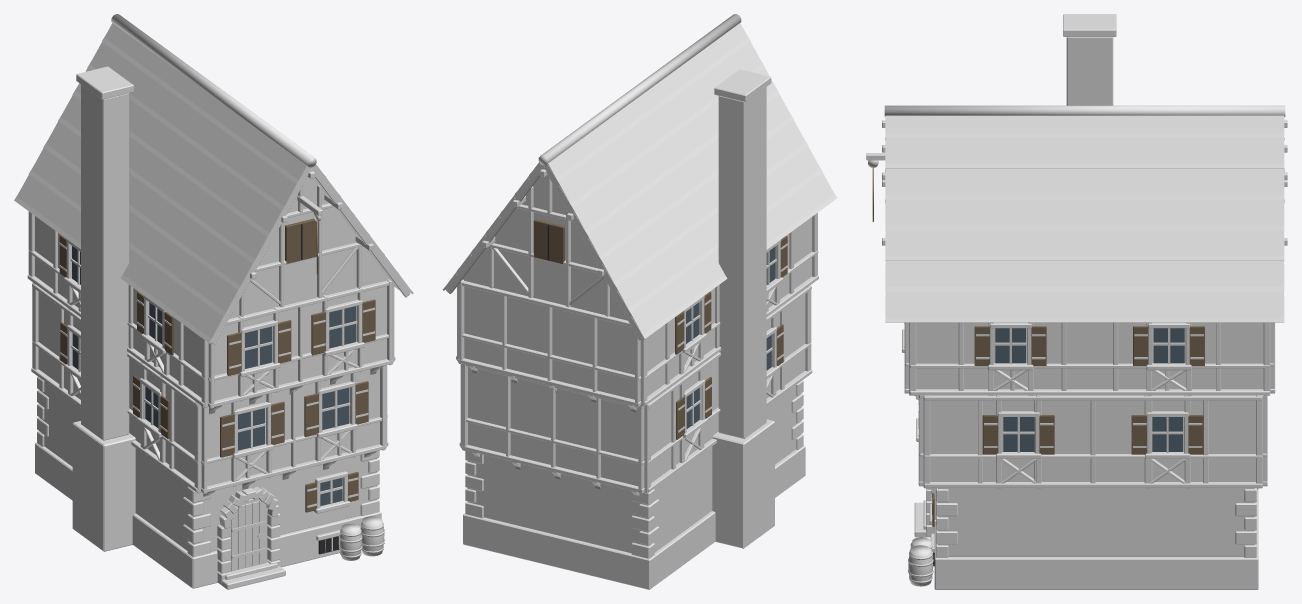
File: ville_02_pignon_pierre_rdc.fbx
3 views of the same model, side by side, from view 1: azimuth 30°, elevation 25°; view 2: azimuth 150°, elevation 25°; view 3: azimuth 270°, elevation 25° (orthographic). The views are drawn at different scales.
Parts seen in each view (by area): view 1: ville_02_pignon_pierre_rdc_LOD0; view 2: ville_02_pignon_pierre_rdc_LOD0; view 3: ville_02_pignon_pierre_rdc_LOD0.
Boxes of the visible parts, <box> form: ville_02_pignon_pierre_rdc_LOD0: <box>14,14,413,589</box>; ville_02_pignon_pierre_rdc_LOD0: <box>442,14,836,589</box>; ville_02_pignon_pierre_rdc_LOD0: <box>866,14,1287,589</box>.
Size of what is drawn, in the model's own units: 6.42 by 12.4 by 10.12.
